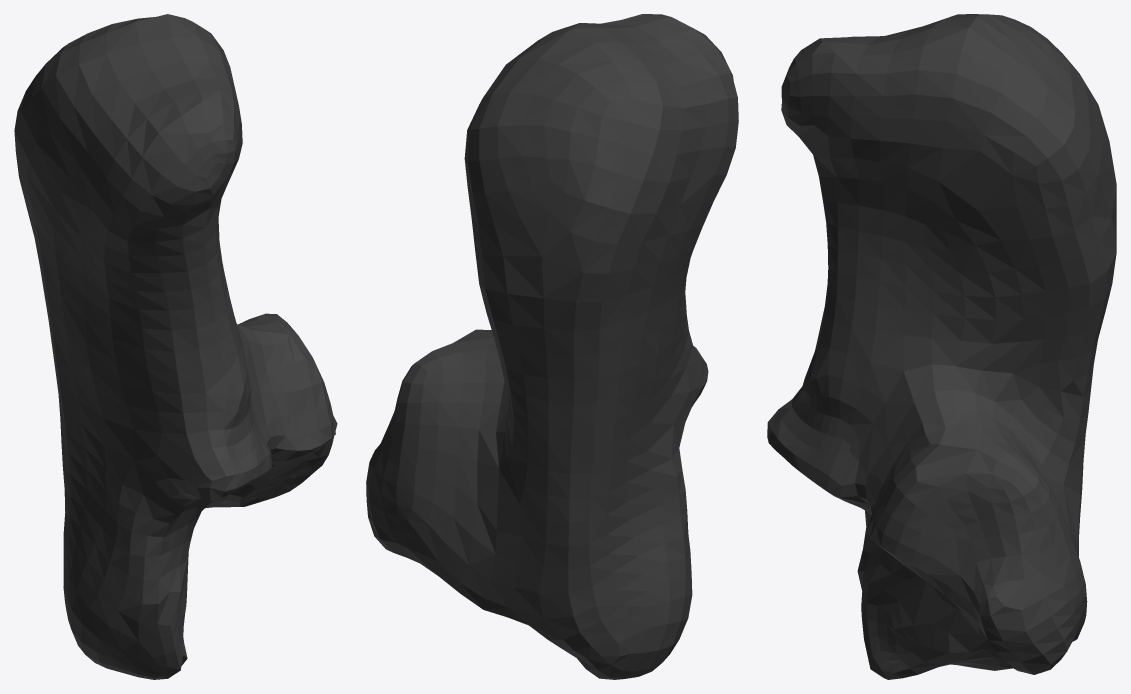
Rendered from Calcaneus_R.glb.
3 renders of one model, left to right at view 1: azimuth 30°, elevation 25°; view 2: azimuth 150°, elevation 25°; view 3: azimuth 270°, elevation 25°, orthographic. The views are drawn at different scales.
Parts seen in each view (by area): view 1: Calcaneus_R; view 2: Calcaneus_R; view 3: Calcaneus_R.
Part boxes in pixels (x1,y1,x2,y2): Calcaneus_R: (14,14,337,679); Calcaneus_R: (366,14,738,679); Calcaneus_R: (767,14,1116,679).
Bounding box in the file's own units: 0.092 × 0.1868 × 0.088.
1 material, 1 textured.
